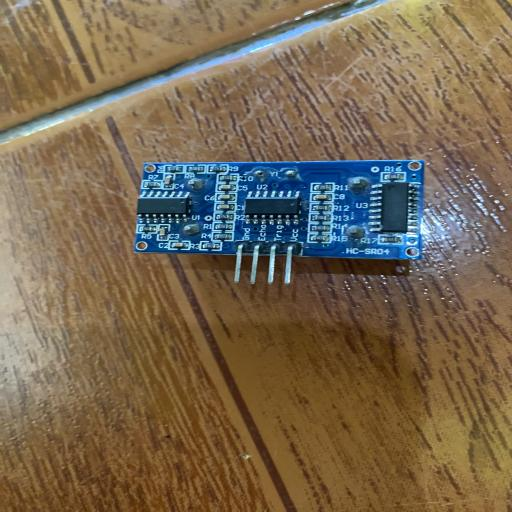Ultrasonic Sensor: (130, 158, 426, 286)
